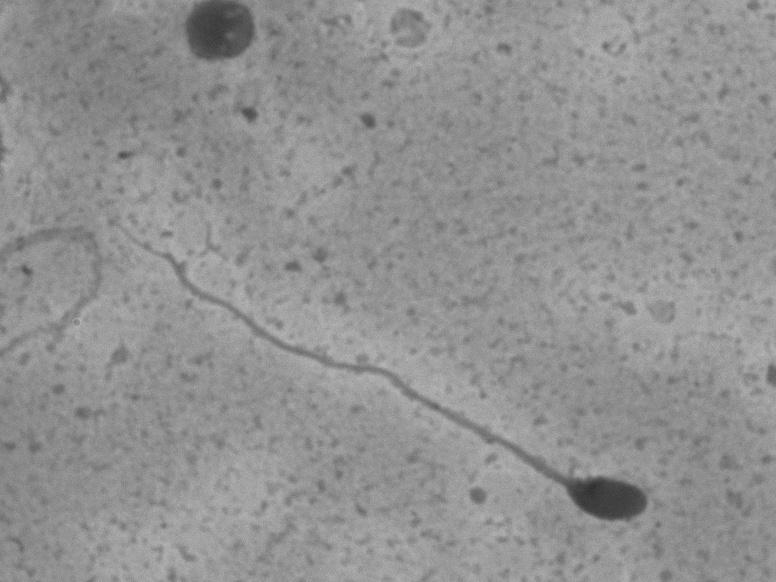Abnormal: (87, 207, 662, 542)
